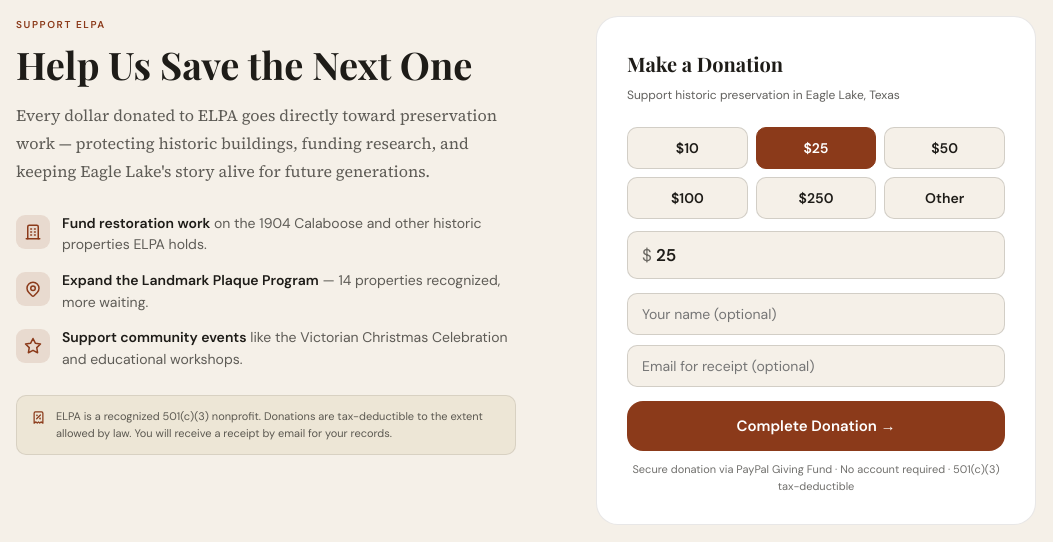
Scenario: DonateSection › selecting a different preset amount updates aria-pressed and the input
Click the button "$100" at {"x": 687, "y": 198}, box [627,177,748,219]
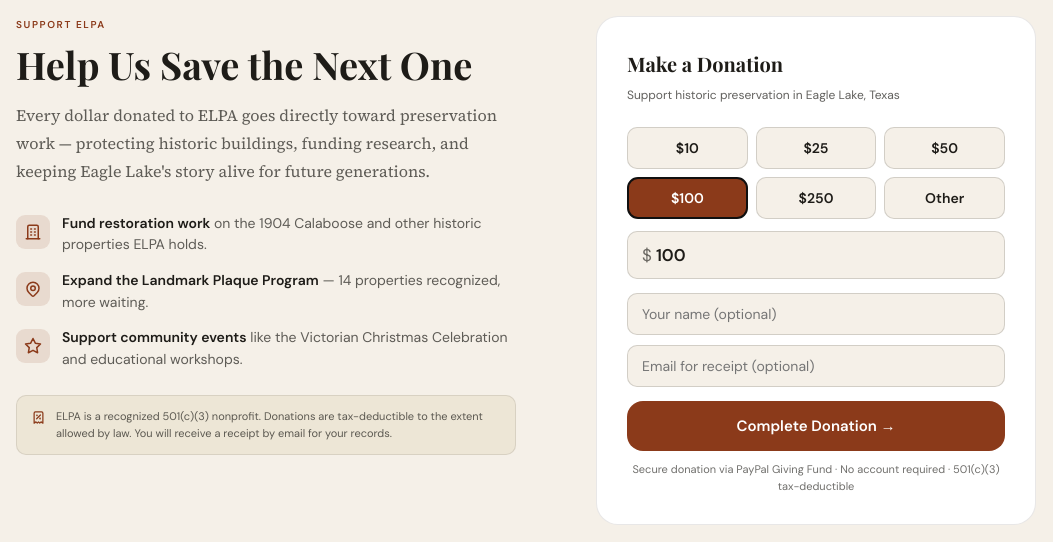
expect the number field named "Enter donation amount" holds "100": met, box [656,232,990,278]
